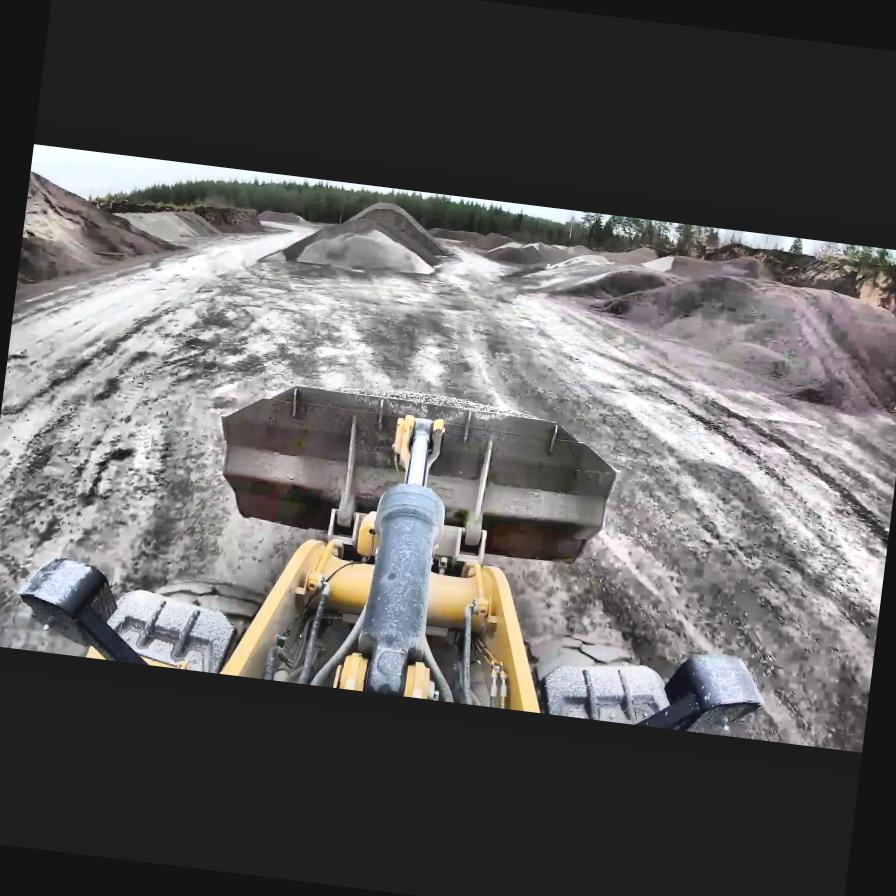anchor: (390, 410, 448, 482)
pile of gravel: (536, 231, 896, 420), (12, 162, 202, 348), (278, 191, 457, 282), (544, 255, 680, 312), (114, 202, 222, 250), (490, 234, 587, 272), (605, 240, 669, 267), (432, 225, 490, 247), (556, 240, 600, 260)
